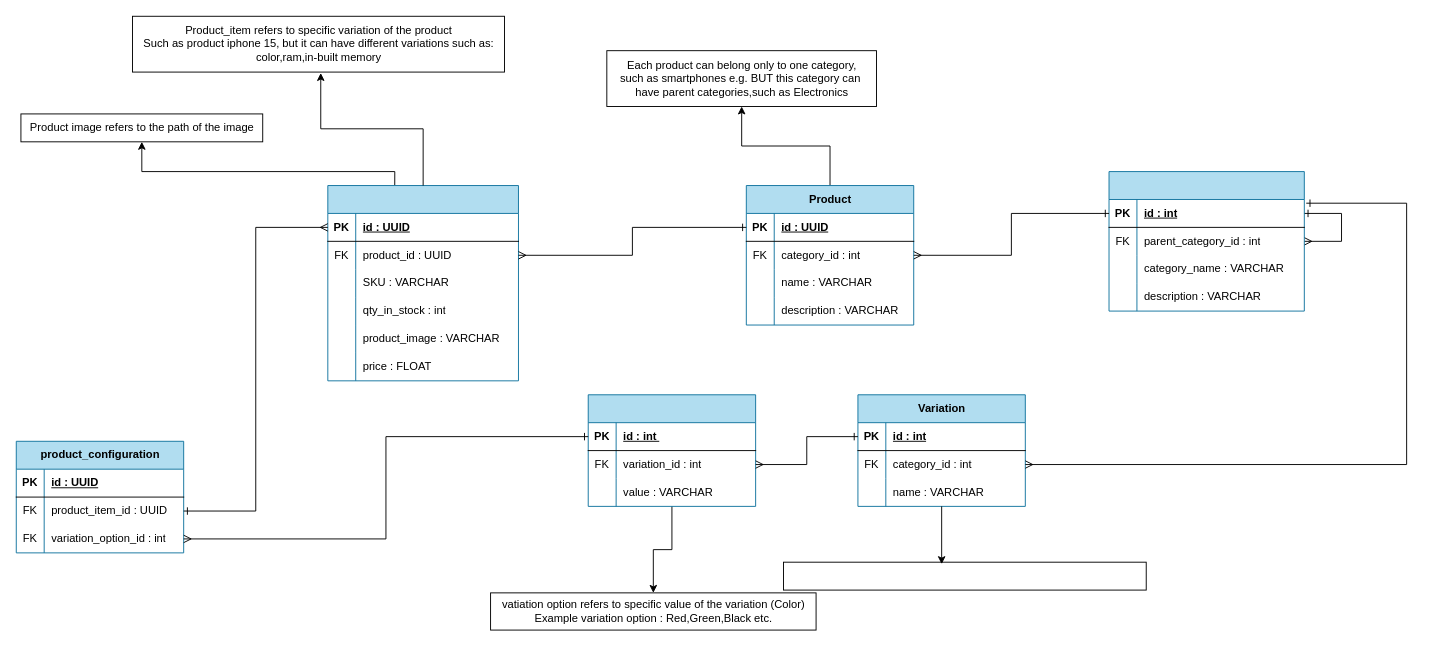
Some shapes in this 1431 by 646 pixel diagram are drawn without their labels. The box of each missing label's shape, as (x1, y1, x2, y2) in pixels:
Product Category: (1108, 171, 1304, 311)
product_item: (327, 185, 518, 381)
Variation option: (587, 394, 756, 506)
Variation refers to some characteristics applicable to specific category: (783, 561, 1146, 590)
